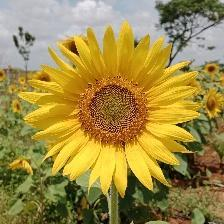sunflower: (24, 21, 205, 201)
